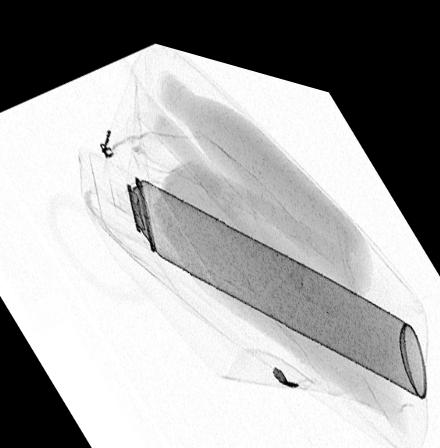Sprayer: (86, 146, 427, 374)
